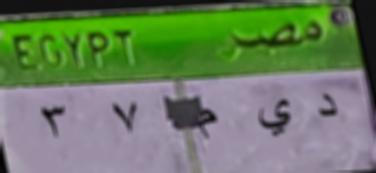3: (37, 99, 71, 146)
7: (112, 100, 142, 136)
daal: (309, 85, 340, 132)
meem: (196, 104, 221, 148)
yaa: (256, 95, 294, 141)
